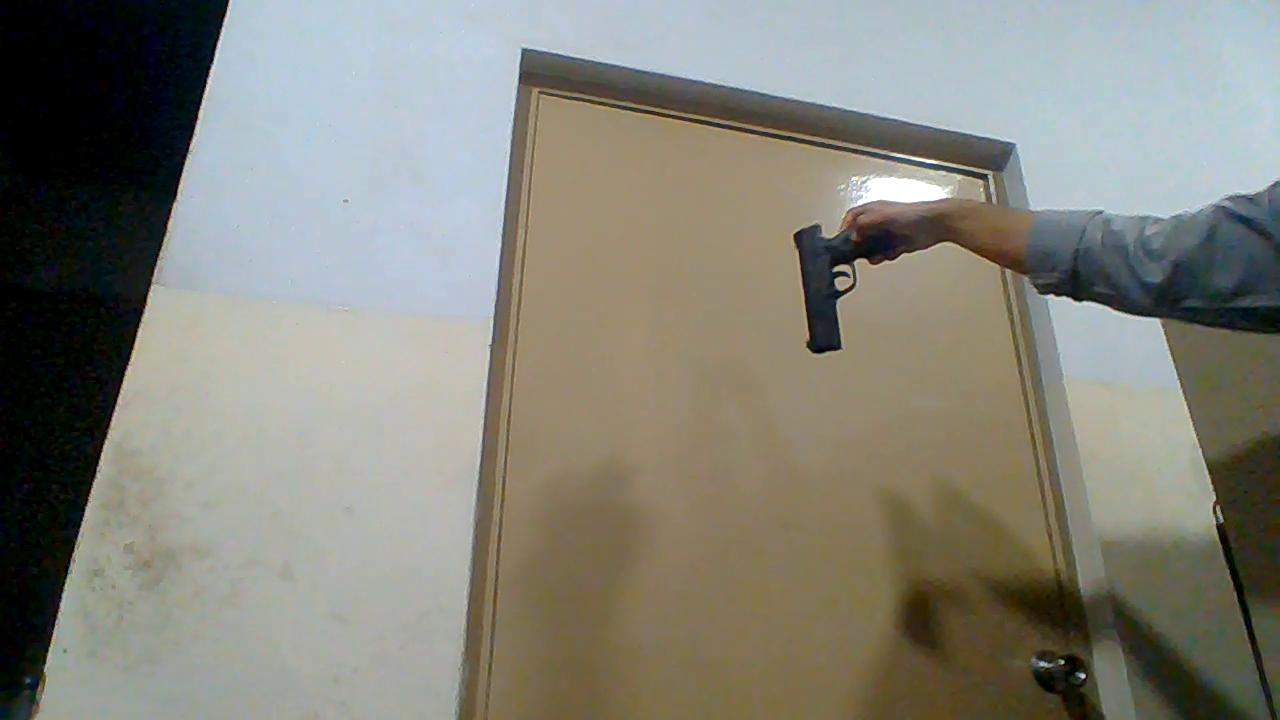weapon: (791, 223, 899, 356)
